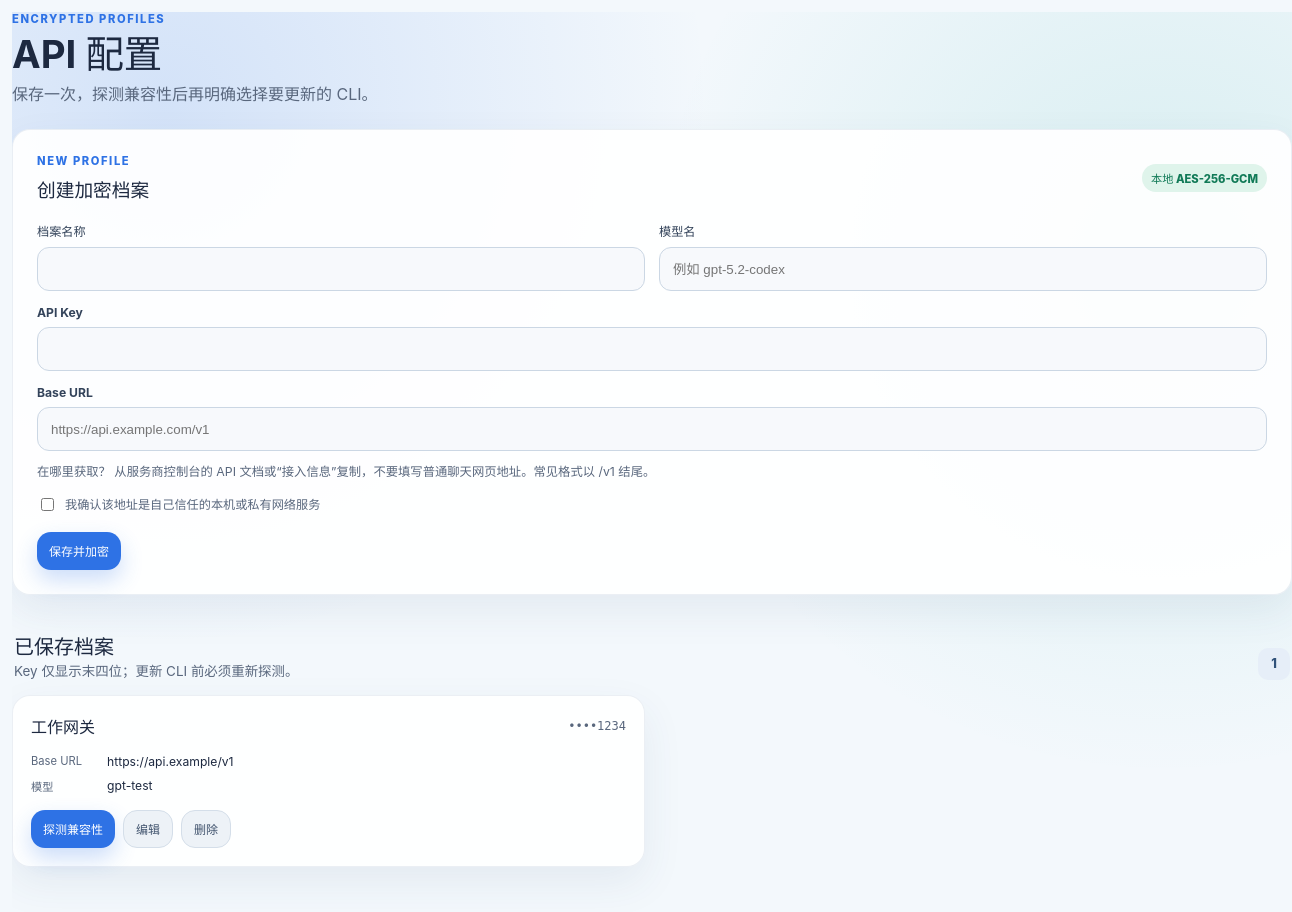
Test: APIProfilesPage › edits public fields without revealing the stored key and preserves the profile identity
Check: the element "工作网关" is shown, box [12, 695, 645, 867]
Click the button "编辑": x=148, y=829 [123, 810, 173, 848]
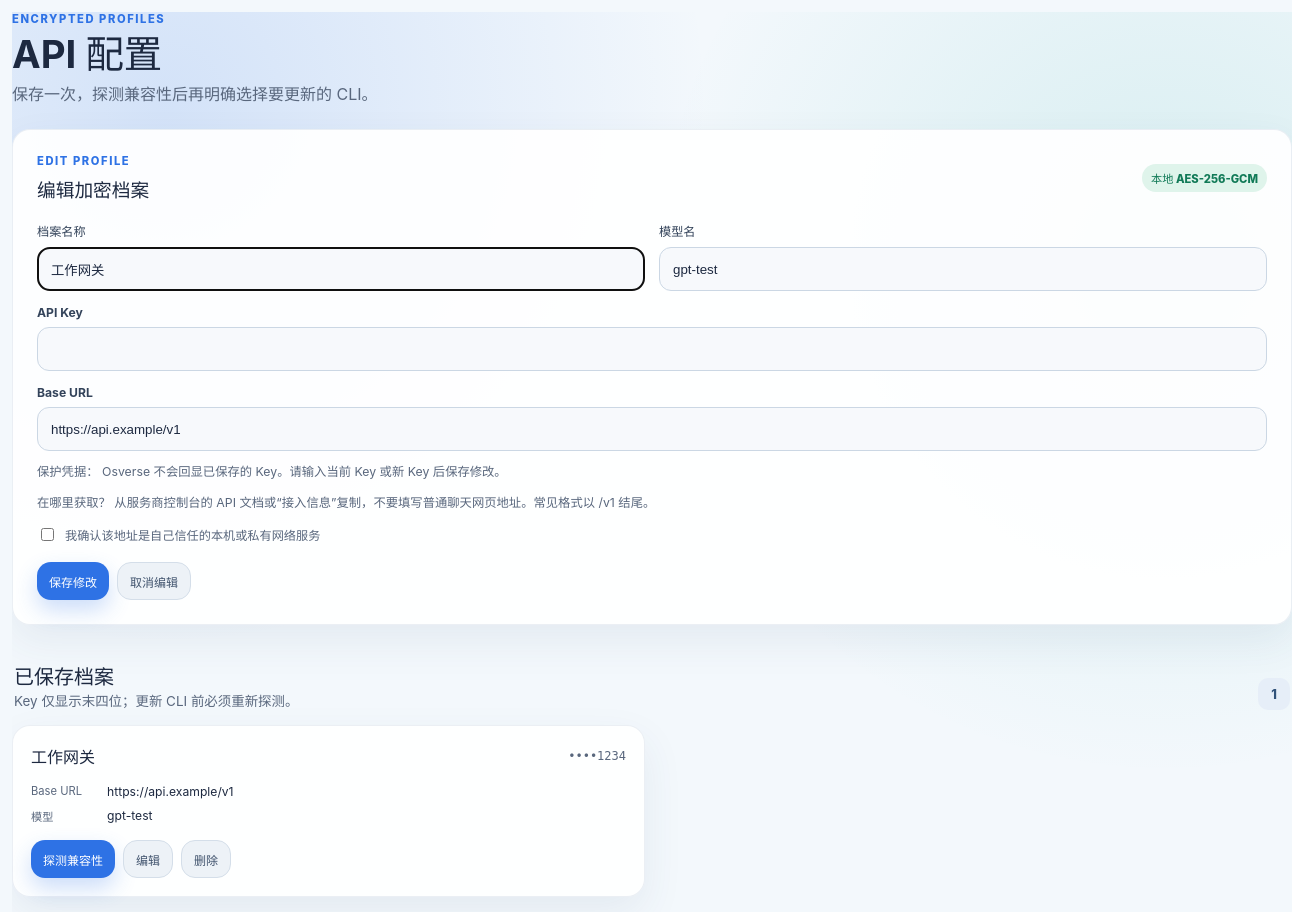
Check: the heading "编辑加密档案" is shown, box [37, 175, 149, 202]
Check: the field labelled "档案名称" holds "工作网关"
Check: the field labelled "模型名" holds "gpt-test", box [659, 247, 1267, 291]
Replace the text in the field labelled "档案名称" with "生产网关": x=341, y=269 [37, 247, 645, 291]
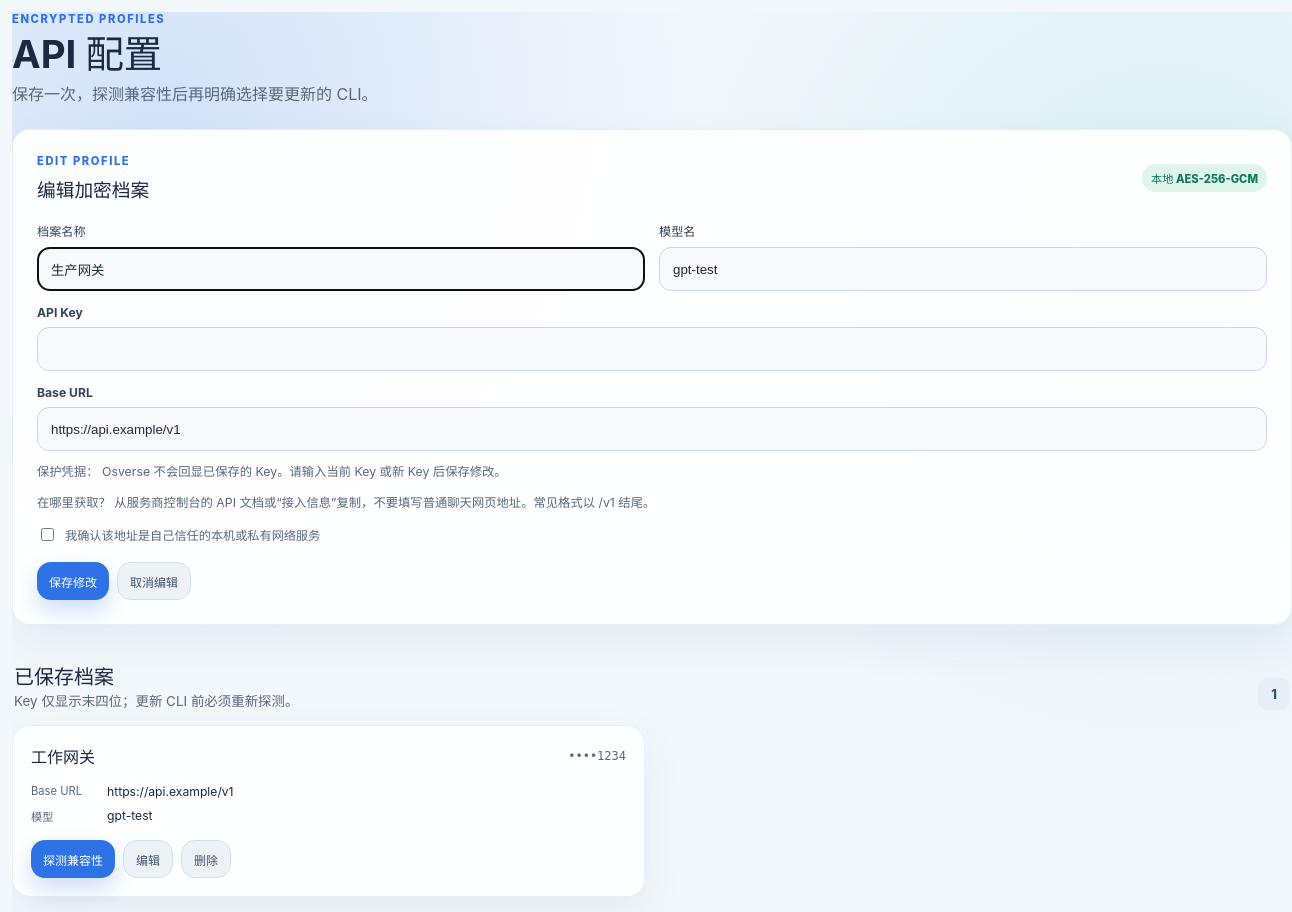
Replace the text in the field labelled "模型名" with "deepseek/deepseek-v4-flash": x=963, y=269 [659, 247, 1267, 291]
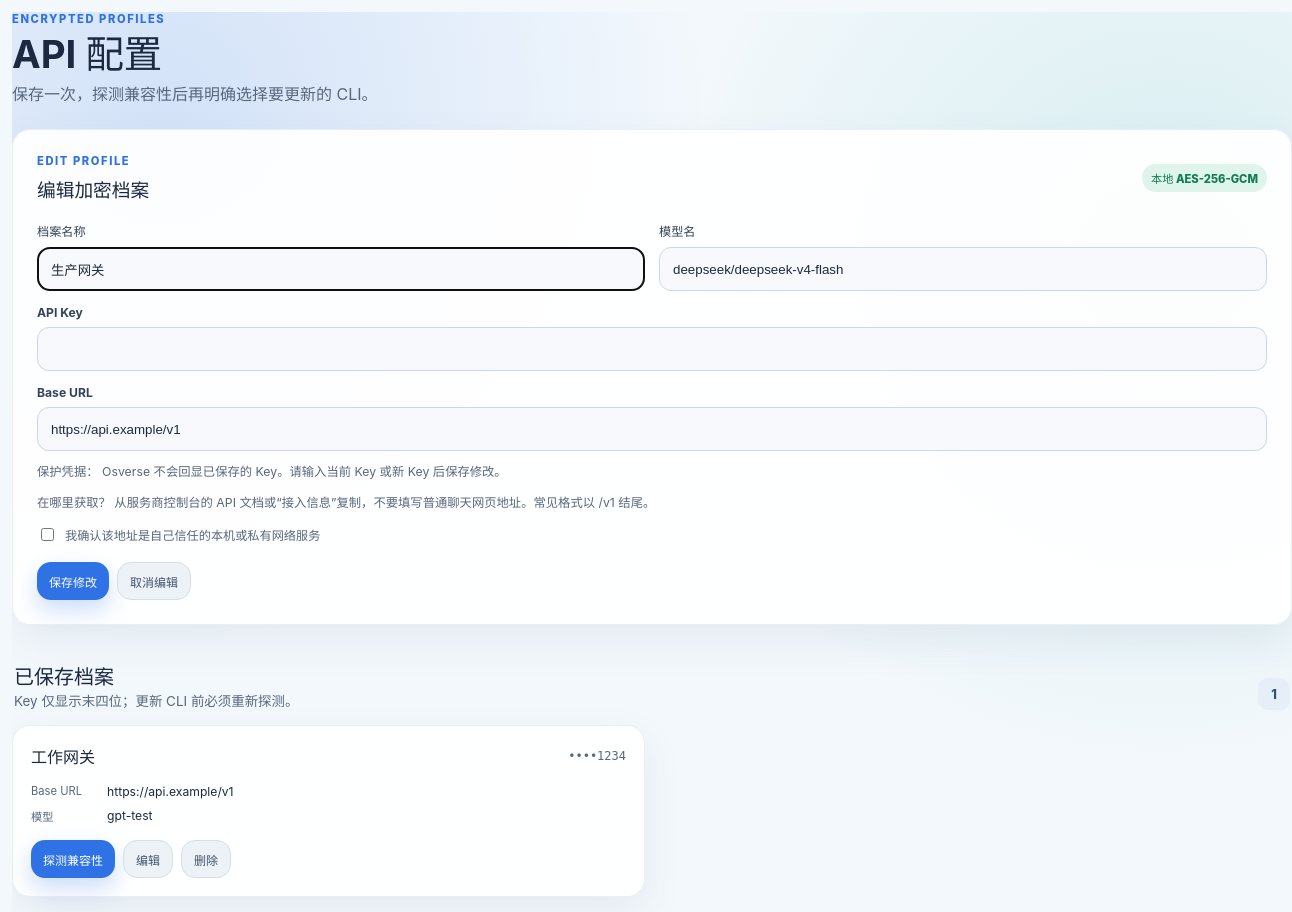
In the password field labelled "API Key": x=652, y=349 [37, 327, 1267, 371], type "test-key-5678"
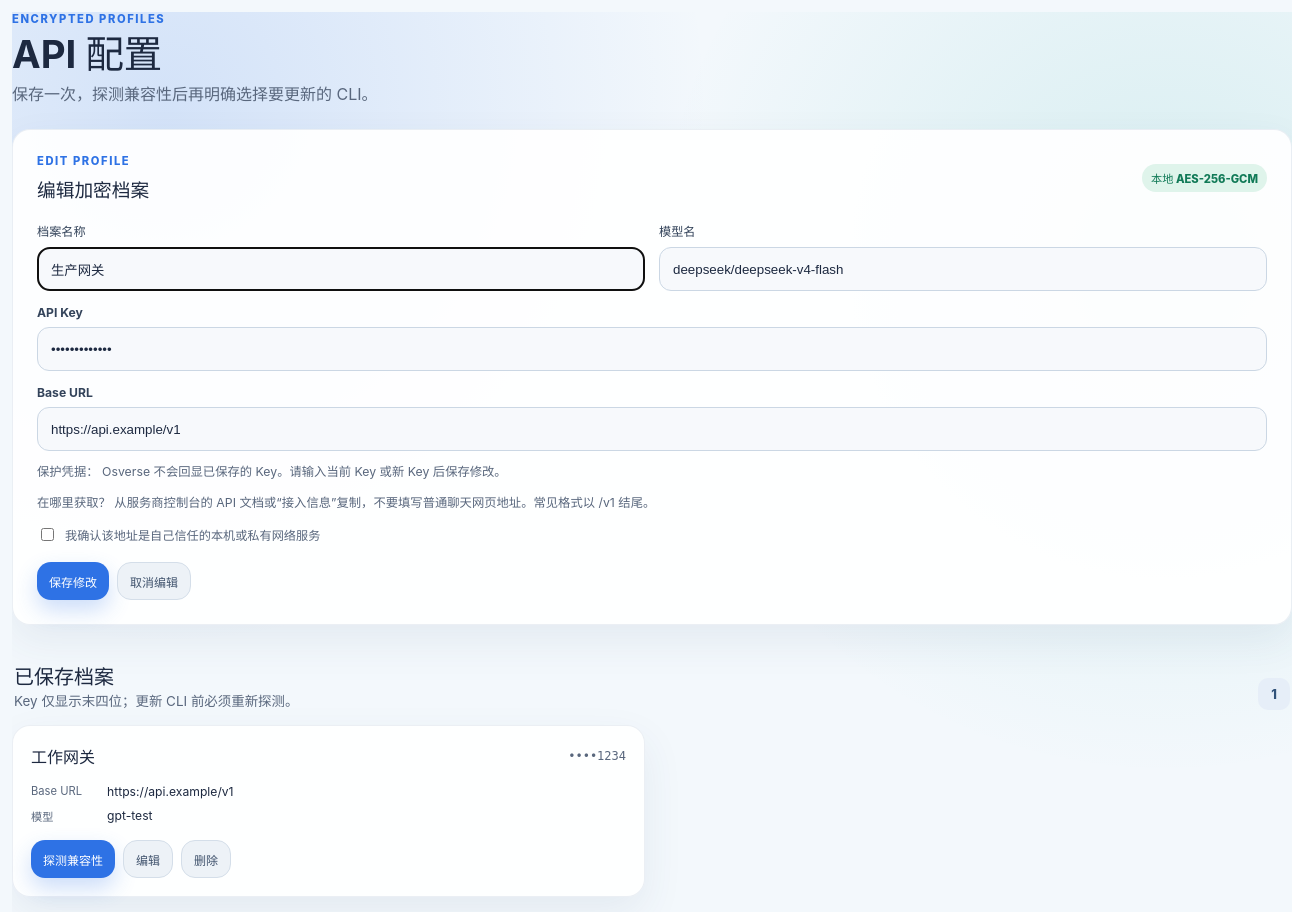
Click the button "保存修改": x=73, y=581 [37, 562, 109, 600]
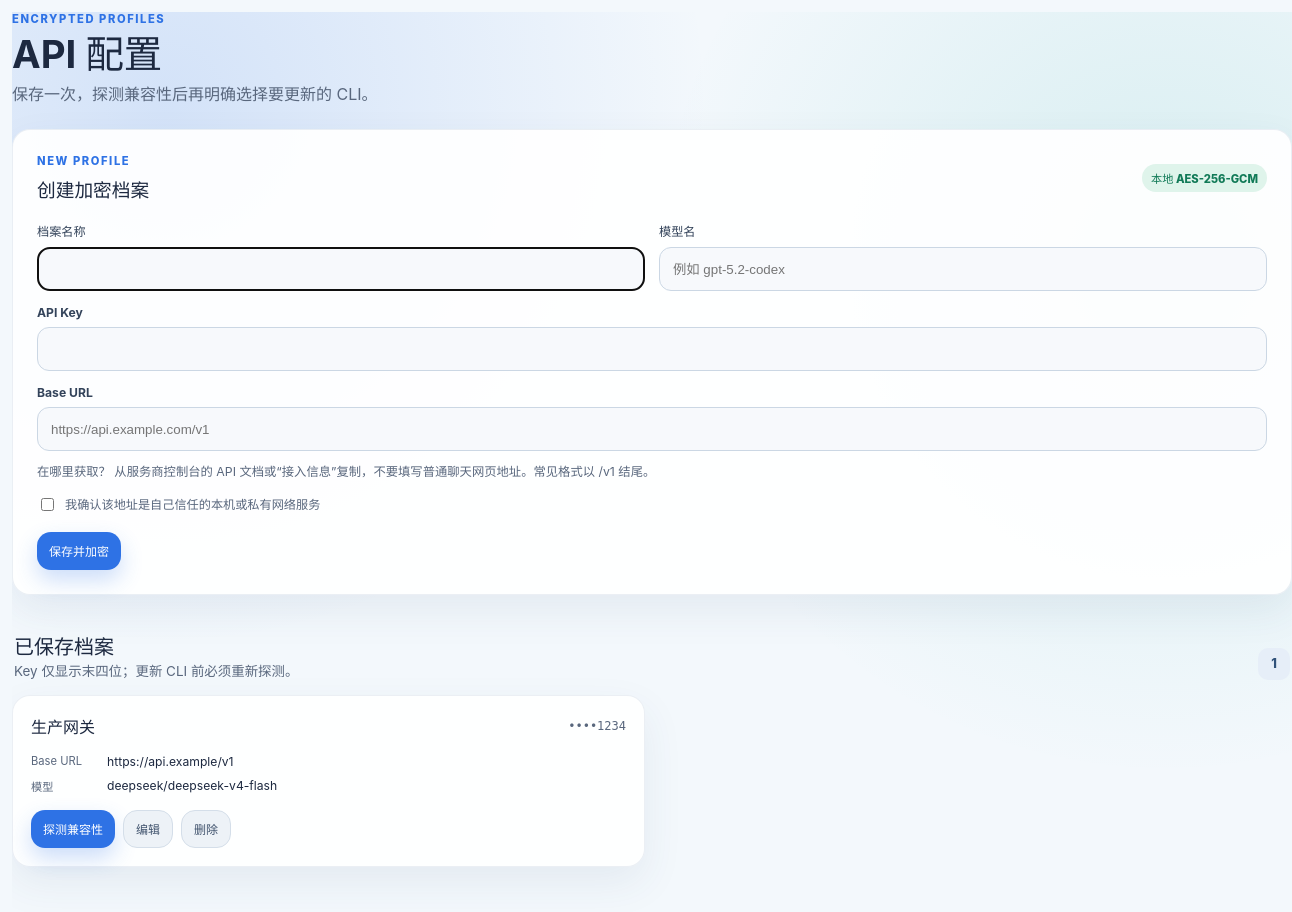
Check: the heading "生产网关" is shown, box [31, 714, 95, 738]
Check: the heading "创建加密档案" is shown, box [37, 175, 149, 202]
Check: the password field labelled "API Key" is empty, box [37, 327, 1267, 371]
